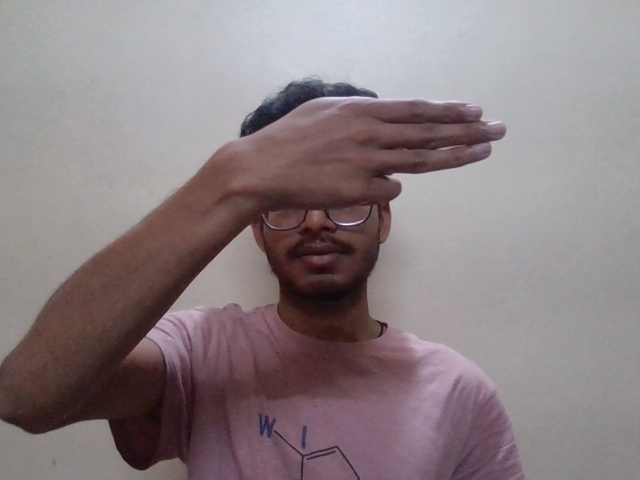wednesday: (213, 87, 519, 221)
